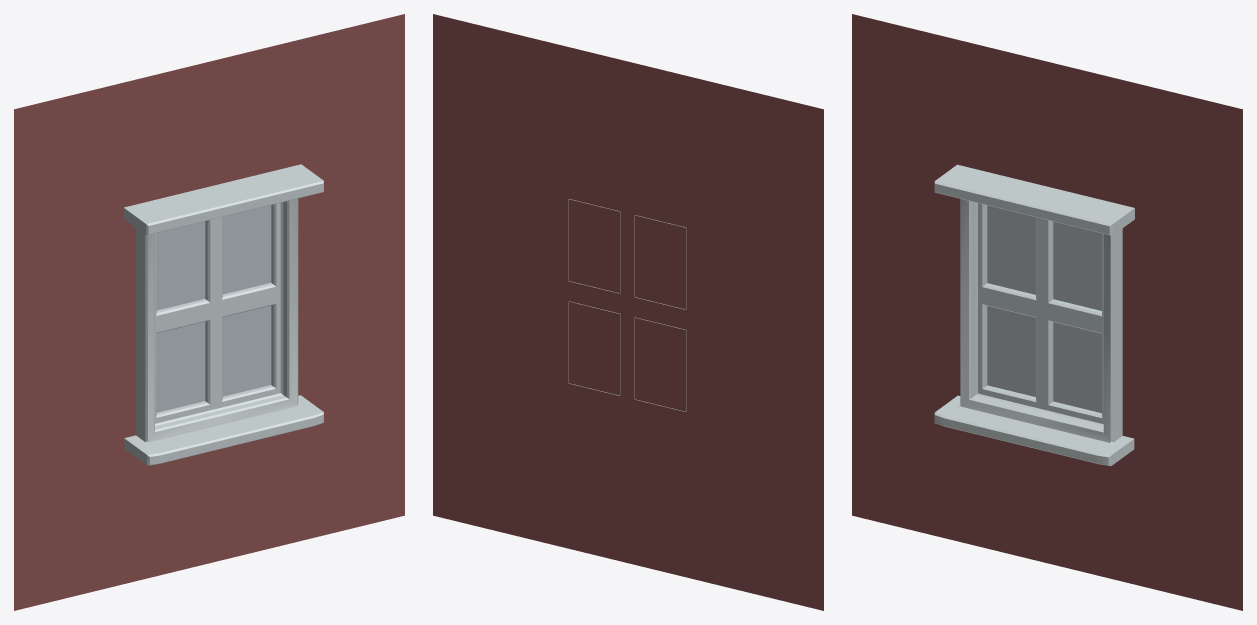
File: fbx_oldbuilding_wall_r2.fbx
3 views of the same model, side by side, from view 1: azimuth 30°, elevation 25°; view 2: azimuth 150°, elevation 25°; view 3: azimuth 330°, elevation 25° (orthographic).
Parts seen in each view (by area): view 1: fbx_oldbuilding_wall_r2; view 2: fbx_oldbuilding_wall_r2; view 3: fbx_oldbuilding_wall_r2.
Part boxes in pixels (left/top/right/bottom): fbx_oldbuilding_wall_r2: left=14, top=14, right=404, bottom=610; fbx_oldbuilding_wall_r2: left=433, top=14, right=823, bottom=610; fbx_oldbuilding_wall_r2: left=852, top=14, right=1242, bottom=610.
Size of the model in its own units: 1.92 by 2.35 by 0.2369.
Materials: 2 (1 with a texture image).
